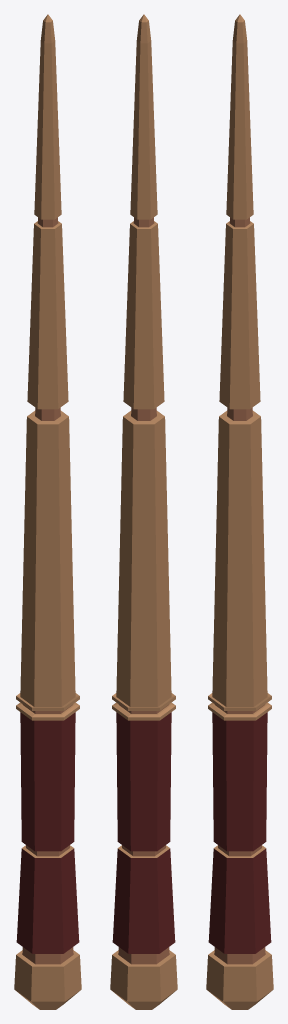
File: Magic Wand.fbx
3 renders of one model, left to right at view 1: azimuth 90°, elevation 25°; view 2: azimuth 210°, elevation 25°; view 3: azimuth 270°, elevation 25°, orthographic.
Parts seen in each view (by area): view 1: Wand; view 2: Wand; view 3: Wand.
Boxes of the visible parts, box(x1,y1,x2,y2) form: Wand: box(14, 14, 81, 1009); Wand: box(110, 14, 177, 1009); Wand: box(206, 14, 273, 1009).
Size of the model in its own units: 6.76 by 126 by 7.8.
